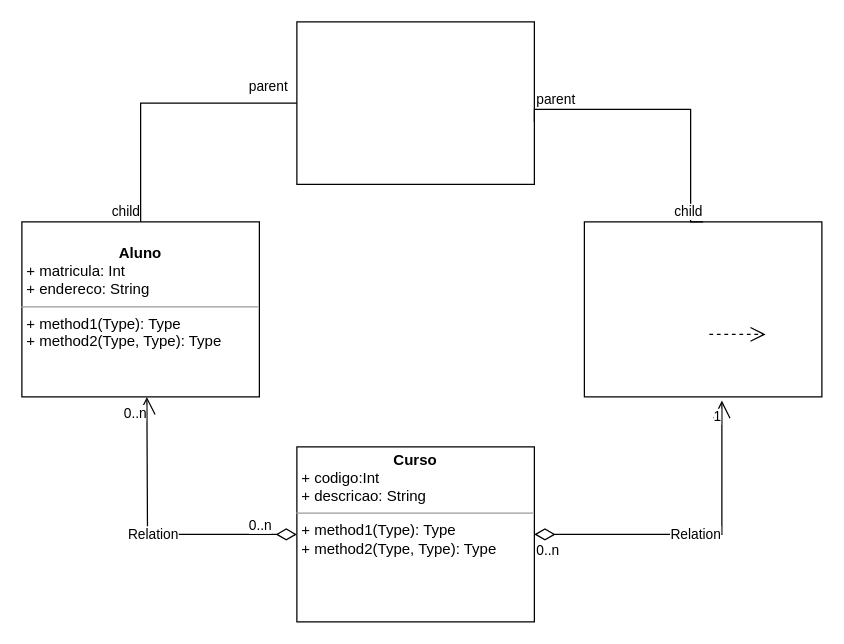
This 844x644 diagram has some shape labels left out. Each missing label, with the centre of its shape:
Instrutor + codigo: int + method1(Type): Type + method2(Type, Type): Type: point (702, 309)
Pessoa + nome: String: point (415, 102)
